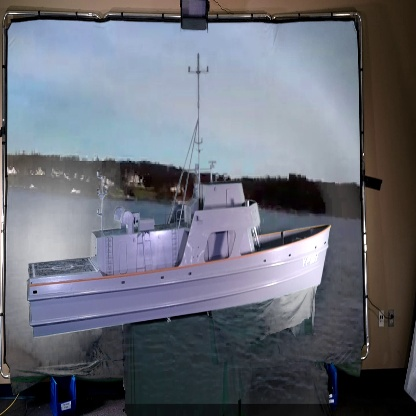YP689: (26, 51, 334, 339)
